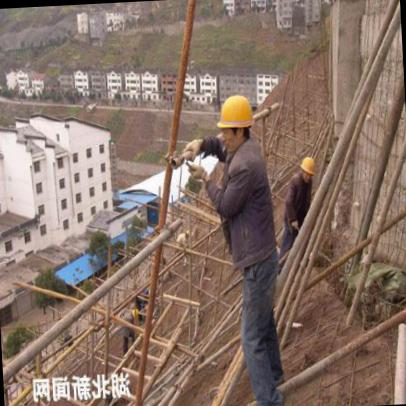helmet: (215, 93, 255, 129), (299, 155, 318, 176)
